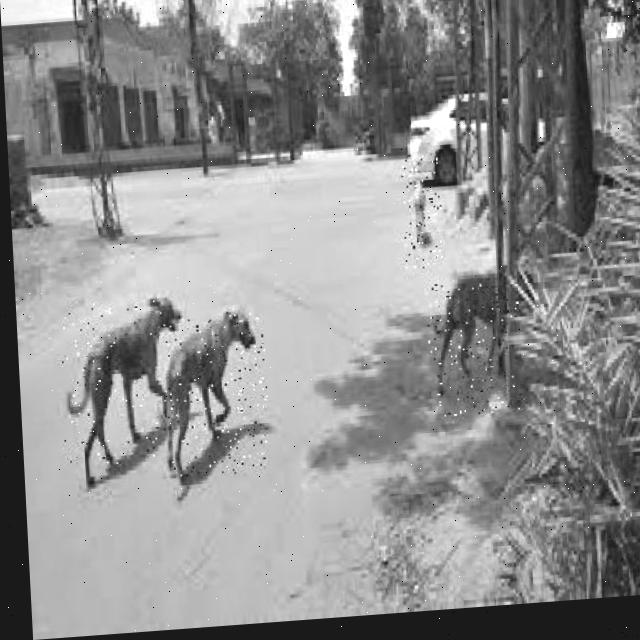Dog: (56, 294, 190, 469), (161, 309, 273, 480), (425, 275, 526, 419), (400, 148, 447, 271)
